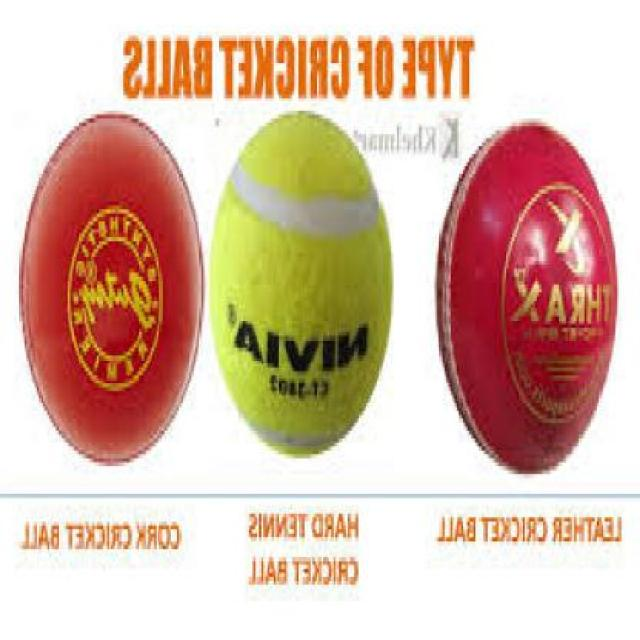ball: (421, 120, 635, 480)
